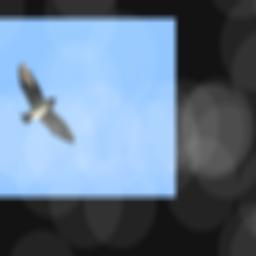Swallow: (15, 61, 73, 145)
